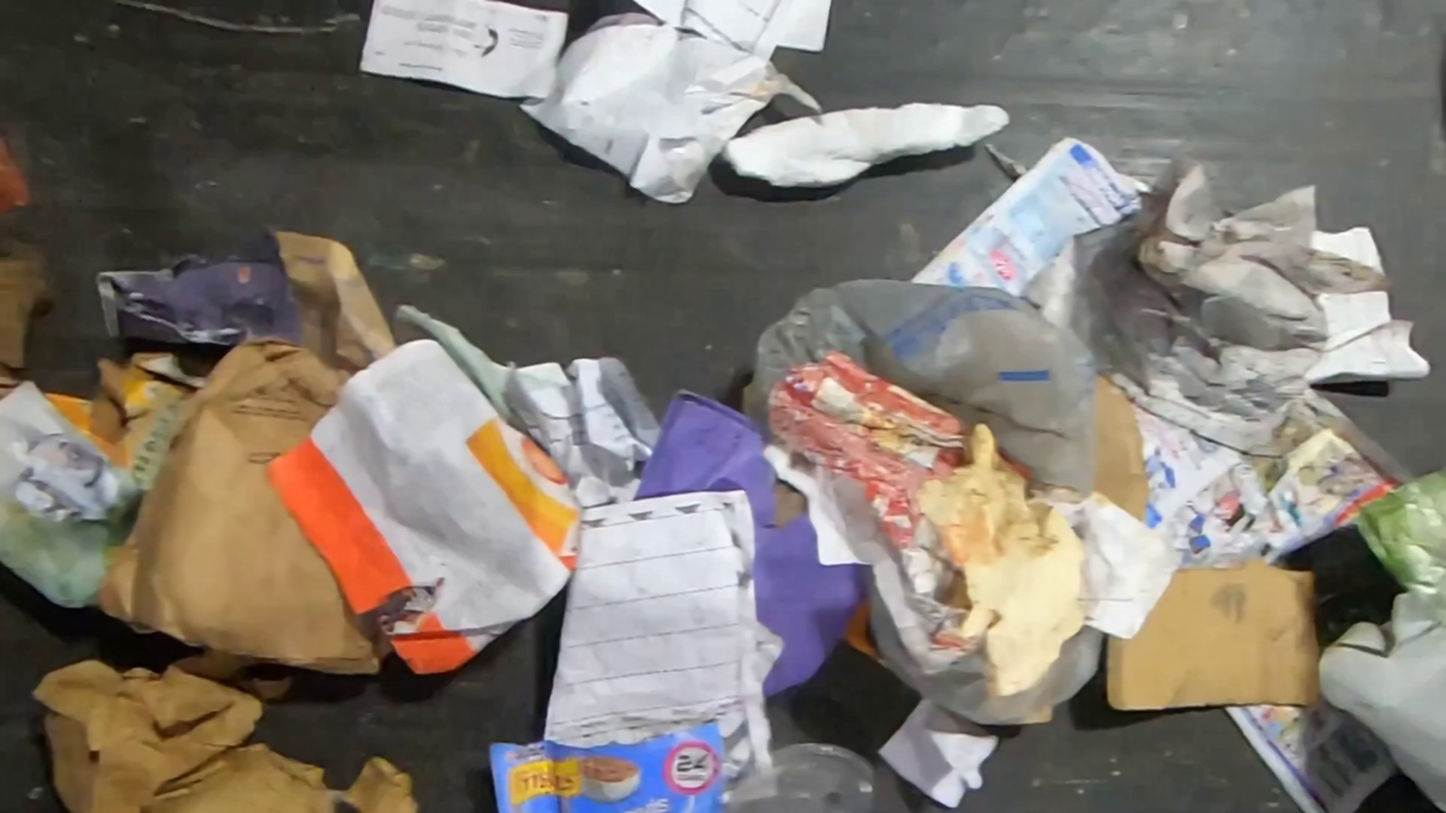cardboard: (1101, 555, 1321, 712), (41, 351, 203, 489), (0, 254, 54, 405), (1095, 374, 1146, 525)
plastic: (748, 277, 1098, 500), (714, 741, 879, 813)
